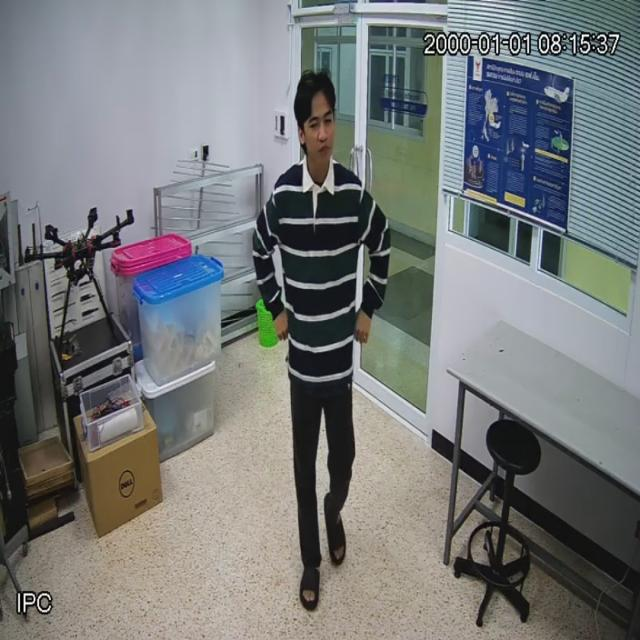normal: (256, 73, 390, 602)
